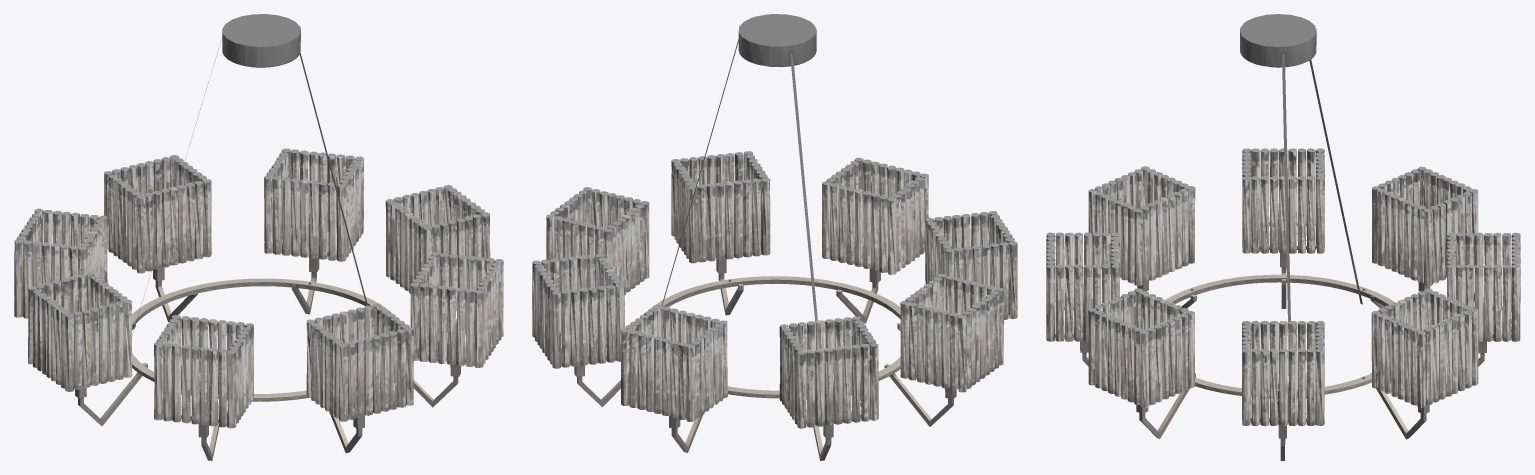
3 renders of one model, left to right at view 1: azimuth 30°, elevation 25°; view 2: azimuth 150°, elevation 25°; view 3: azimuth 270°, elevation 25°, orthographic.
Visible parts, largest first — view 1: solid_001_wire; view 2: solid_001_wire; view 3: solid_001_wire.
Boxes of the visible parts, <box> form: solid_001_wire: <box>14,14,503,460</box>; solid_001_wire: <box>532,14,1017,460</box>; solid_001_wire: <box>1046,14,1520,460</box>.
Bounding box in the file's own units: 1.07 × 0.8641 × 1.05.
1 material, 1 textured.
